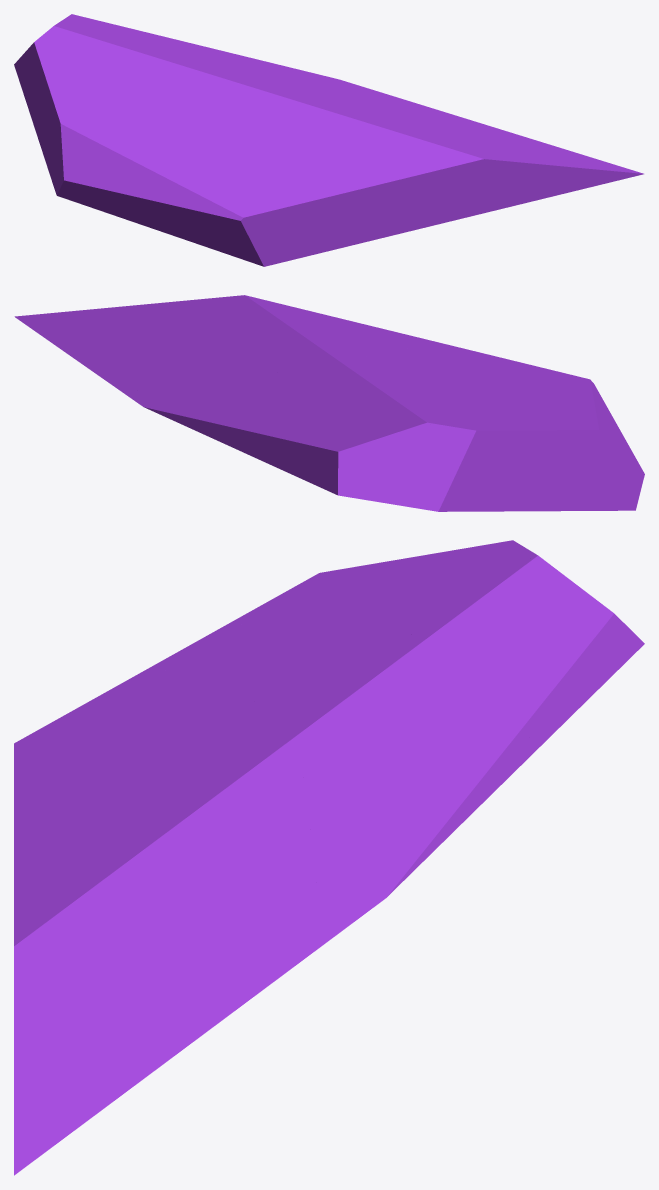
The model's file is Window_145_4_chunks.fbx.
3 views of the same model, one above another, from view 1: azimuth 30°, elevation 25°; view 2: azimuth 150°, elevation 25°; view 3: azimuth 270°, elevation 25° (orthographic). The views are drawn at different scales.
Parts seen in each view (by area): view 1: Window_145_4_1, Window_145_4_12, Window_145_4_10, Window_145_4_0, Window_145_4_6, Window_145_4_7, Window_145_4_8, Window_145_4_9, Window_145_4_5, Window_145_4_3, Window_145_4_2, Window_145_4_4; view 2: Window_145_4_10, Window_145_4_2, Window_145_4_0, Window_145_4_1, Window_145_4_3, Window_145_4_5, Window_145_4_9, Window_145_4_7, Window_145_4_12, Window_145_4_8, Window_145_4_6, Window_145_4_4; view 3: Window_145_4_10, Window_145_4_3, Window_145_4_1, Window_145_4_5, Window_145_4_2, Window_145_4_9, Window_145_4_7, Window_145_4_12, Window_145_4_8, Window_145_4_6, Window_145_4_0, Window_145_4_4.
Boxes of the visible parts, left/top/right/bottom form: Window_145_4_1: left=26, top=26, right=217, bottom=174; Window_145_4_12: left=320, top=130, right=494, bottom=243; Window_145_4_10: left=328, top=91, right=643, bottom=213; Window_145_4_0: left=17, top=59, right=199, bottom=244; Window_145_4_6: left=184, top=171, right=360, bottom=266; Window_145_4_7: left=183, top=87, right=285, bottom=179; Window_145_4_8: left=220, top=128, right=356, bottom=200; Window_145_4_9: left=284, top=89, right=373, bottom=158; Window_145_4_5: left=112, top=39, right=254, bottom=95; Window_145_4_3: left=188, top=42, right=388, bottom=94; Window_145_4_2: left=14, top=14, right=173, bottom=72; Window_145_4_4: left=21, top=30, right=147, bottom=66; Window_145_4_10: left=14, top=296, right=300, bottom=391; Window_145_4_2: left=257, top=411, right=457, bottom=511; Window_145_4_0: left=451, top=394, right=644, bottom=511; Window_145_4_1: left=393, top=376, right=592, bottom=469; Window_145_4_3: left=122, top=365, right=336, bottom=458; Window_145_4_5: left=254, top=364, right=407, bottom=437; Window_145_4_9: left=221, top=328, right=406, bottom=379; Window_145_4_7: left=292, top=354, right=577, bottom=394; Window_145_4_12: left=230, top=295, right=427, bottom=348; Window_145_4_8: left=387, top=340, right=528, bottom=382; Window_145_4_6: left=478, top=352, right=608, bottom=409; Window_145_4_4: left=389, top=396, right=465, bottom=491; Window_145_4_10: left=14, top=844, right=324, bottom=1175; Window_145_4_3: left=299, top=731, right=536, bottom=943; Window_145_4_1: left=140, top=540, right=536, bottom=706; Window_145_4_5: left=295, top=615, right=525, bottom=740; Window_145_4_2: left=483, top=555, right=644, bottom=749; Window_145_4_9: left=102, top=766, right=312, bottom=850; Window_145_4_7: left=128, top=686, right=304, bottom=783; Window_145_4_12: left=14, top=803, right=136, bottom=961; Window_145_4_8: left=14, top=717, right=188, bottom=838; Window_145_4_6: left=14, top=687, right=129, bottom=809; Window_145_4_0: left=113, top=571, right=327, bottom=688; Window_145_4_4: left=399, top=563, right=523, bottom=641.
Bounding box in the file's own units: 989 × 267 × 612.
